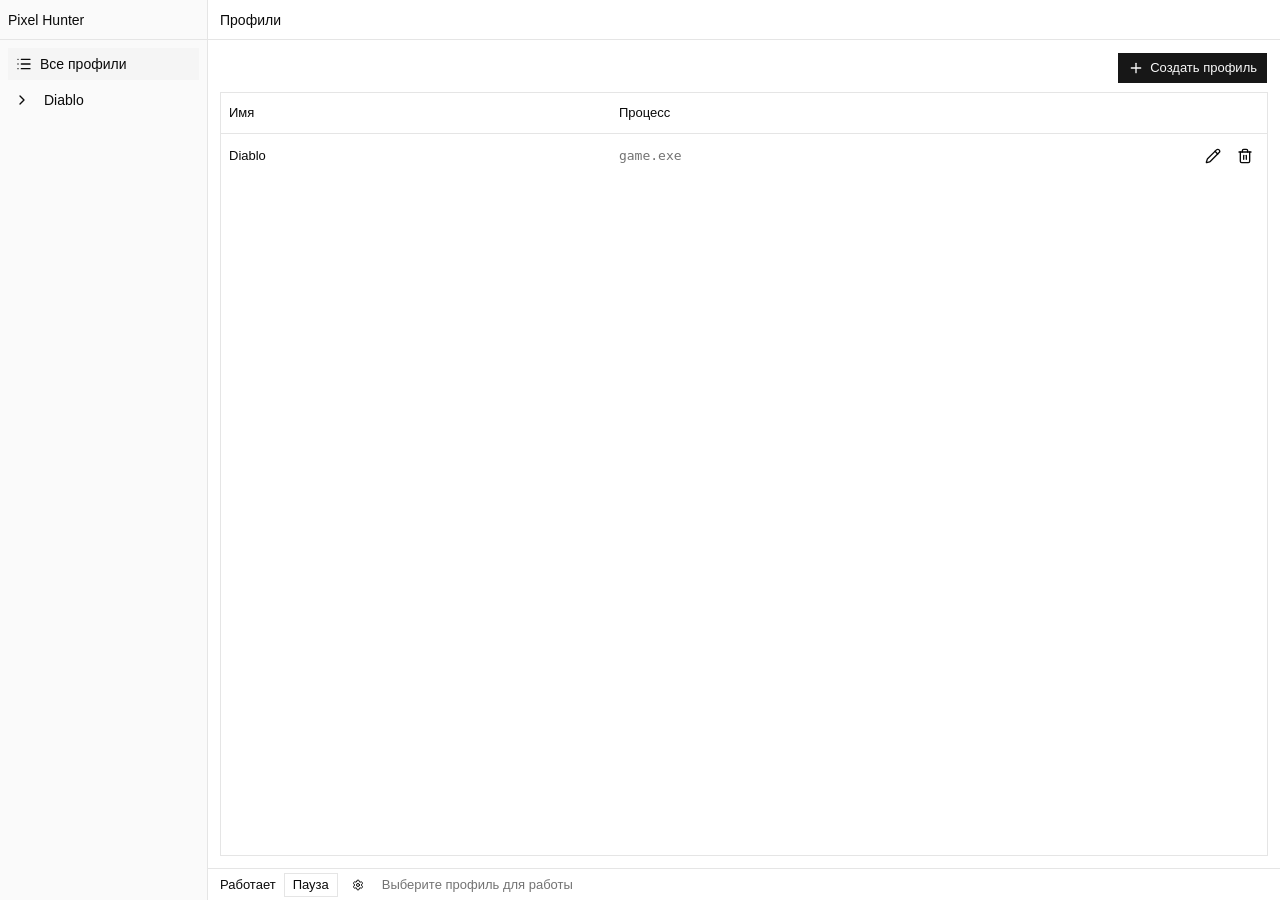
Test: work pause › shows the same pause from the event and from the toggle
The width and height of the screenshot is (1280, 900).
Expected: the message "Работает" is shown, [220,874,276,894]
Click the button "Пауза" at coordinates (311, 884), box [284,872,338,896]
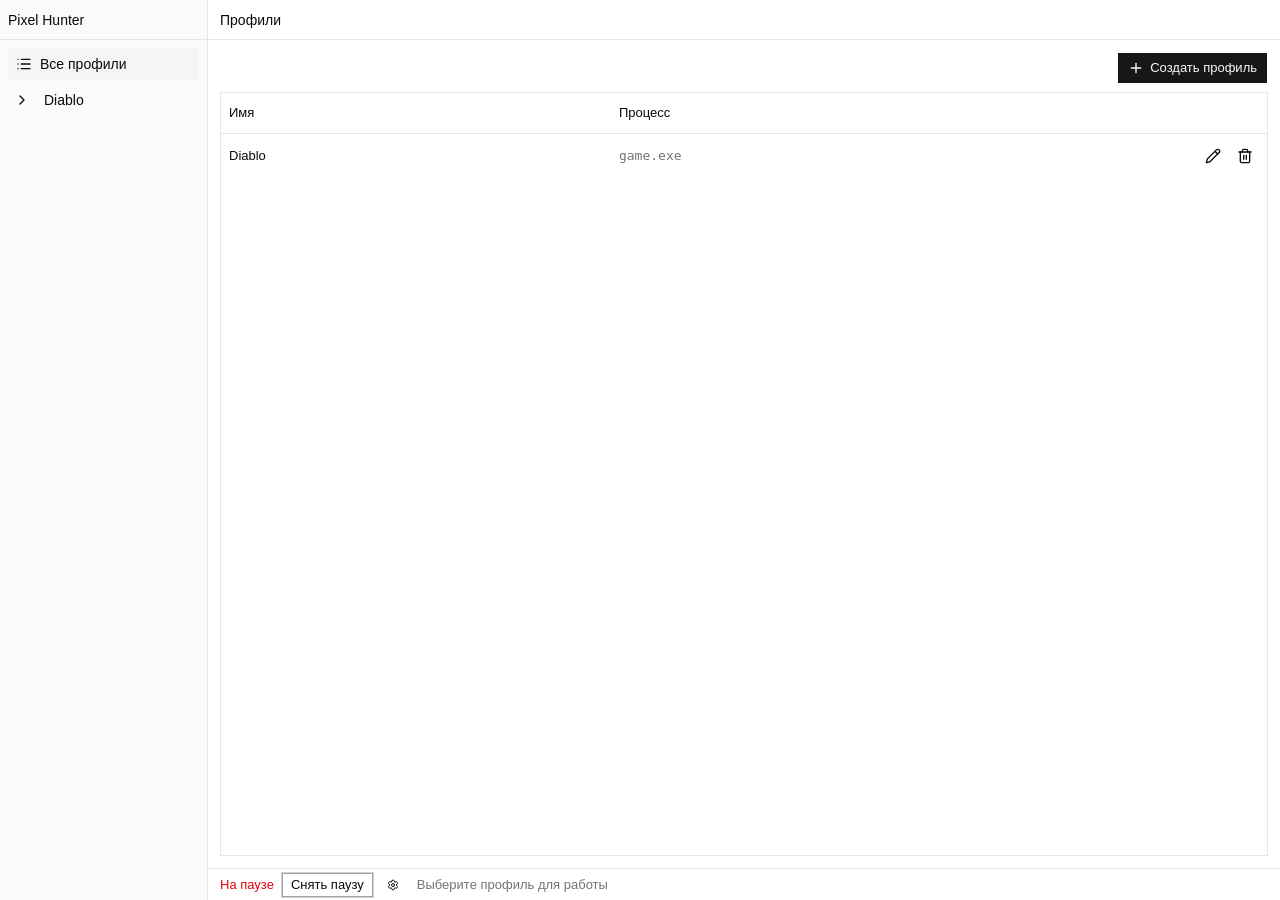
Result: the message "На паузе" is shown at [220,874,274,894]
